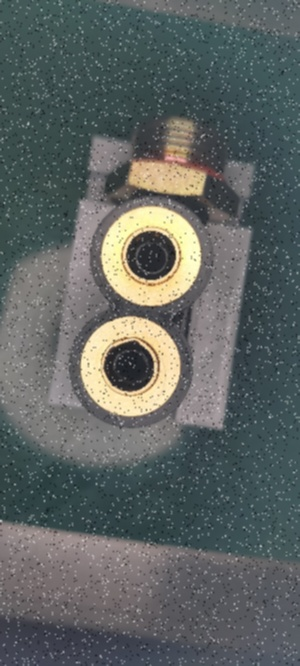bump: (114, 331, 148, 345)
off-centered: (108, 351, 157, 388)
